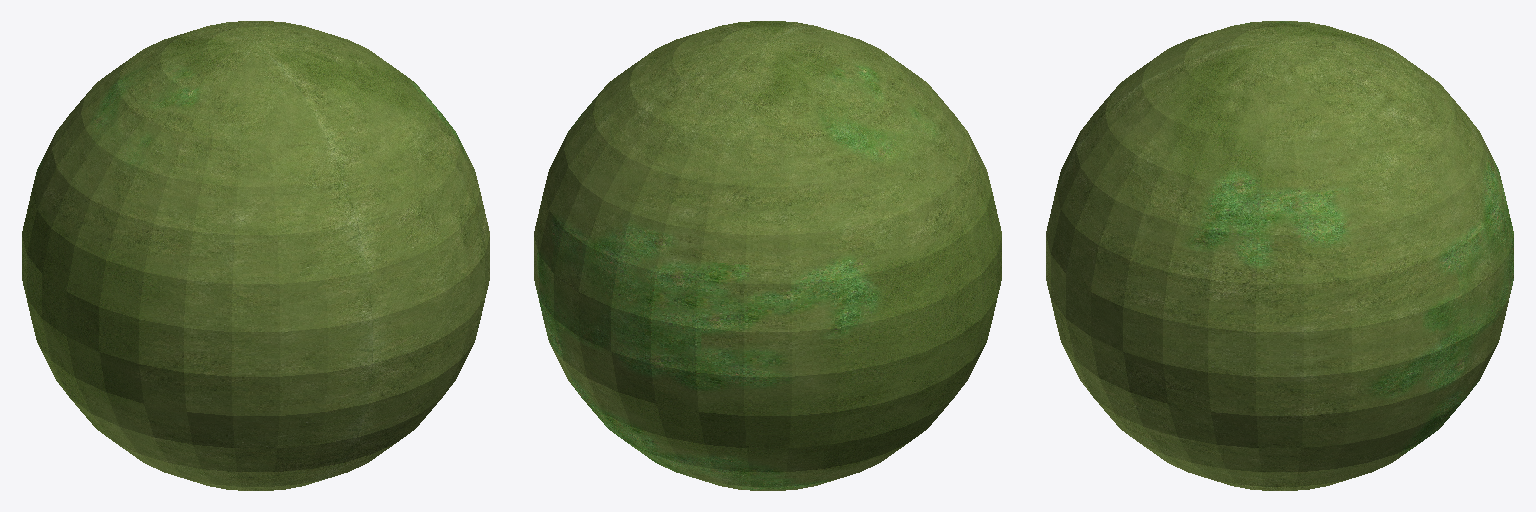
The picture shows the model from 3 angles: view 1: azimuth 30°, elevation 25°; view 2: azimuth 150°, elevation 25°; view 3: azimuth 270°, elevation 25°; orthographic projection.
Parts seen in each view (by area): view 1: Ball; view 2: Ball; view 3: Ball.
Boxes of the visible parts, <box> form: Ball: <box>22,21,489,490</box>; Ball: <box>534,21,1001,490</box>; Ball: <box>1046,21,1513,490</box>.
Bounding box in the file's own units: 0.9891 × 1 × 0.9945.
Materials: 2 (1 with a texture image).